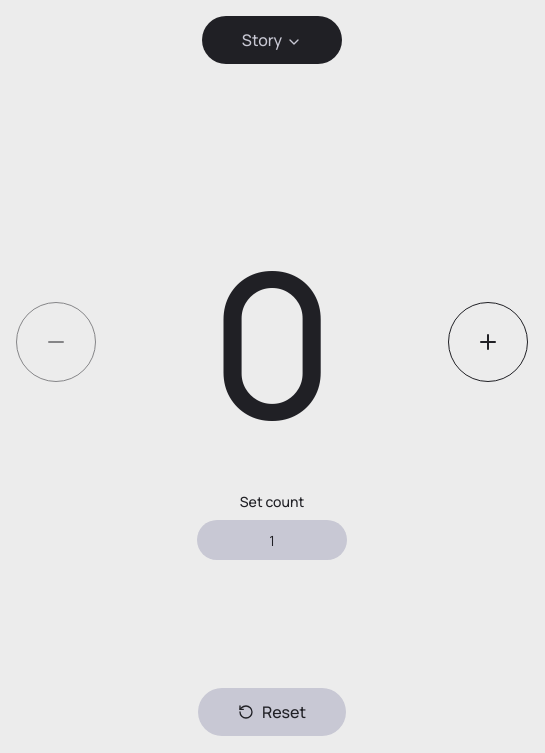
Test: Counter Component › handles invalid step input by filtering non-numeric characters
The image size is (545, 753).
Replace the text in the field labelled "Set count" with "abc123def": (272, 540) [197,520,347,560]
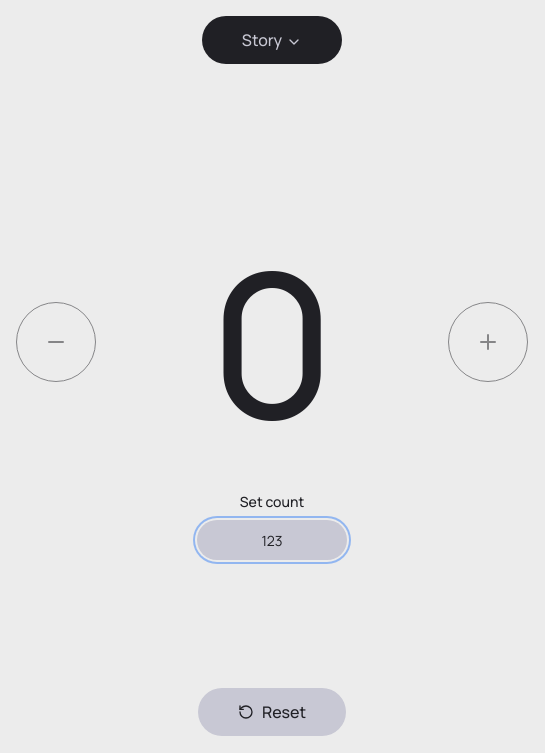
Now the field showing "123" is shown, box [197,520,347,560]
